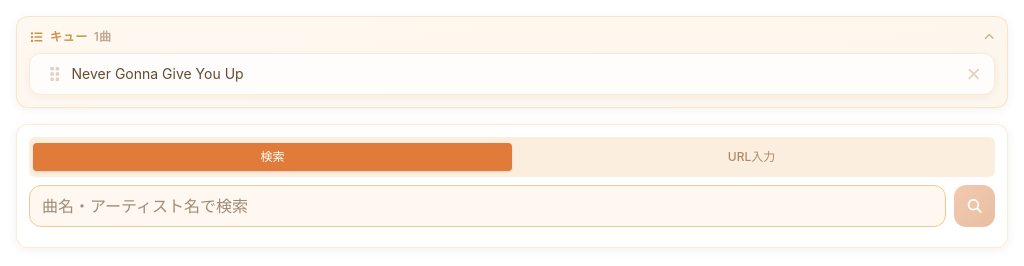
Test: MusicPanel › キュー表示 › キューは検索・URL入力タブの上にアコーディオンとして表示される
expect the text "Never Gonna Give You Up" is shown: met, box [72,65,244,82]
Click the button with aria-label "キューを開閉" at (69, 36), box [29,29,995,45]
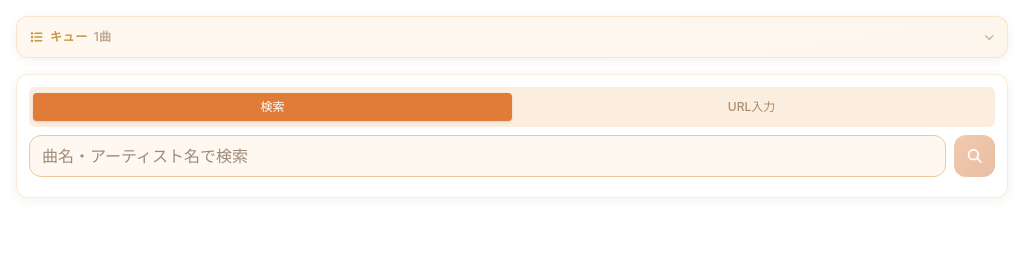
expect the text "Never Gonna Give You Up" is gone: met
